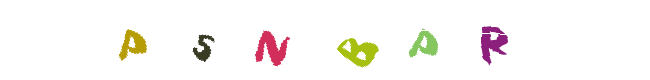5: (226, 0, 306, 80)
B: (284, 0, 364, 80)
N: (231, 0, 311, 80)
P: (163, 0, 243, 80), (344, 0, 424, 80)
R: (450, 0, 530, 80)
